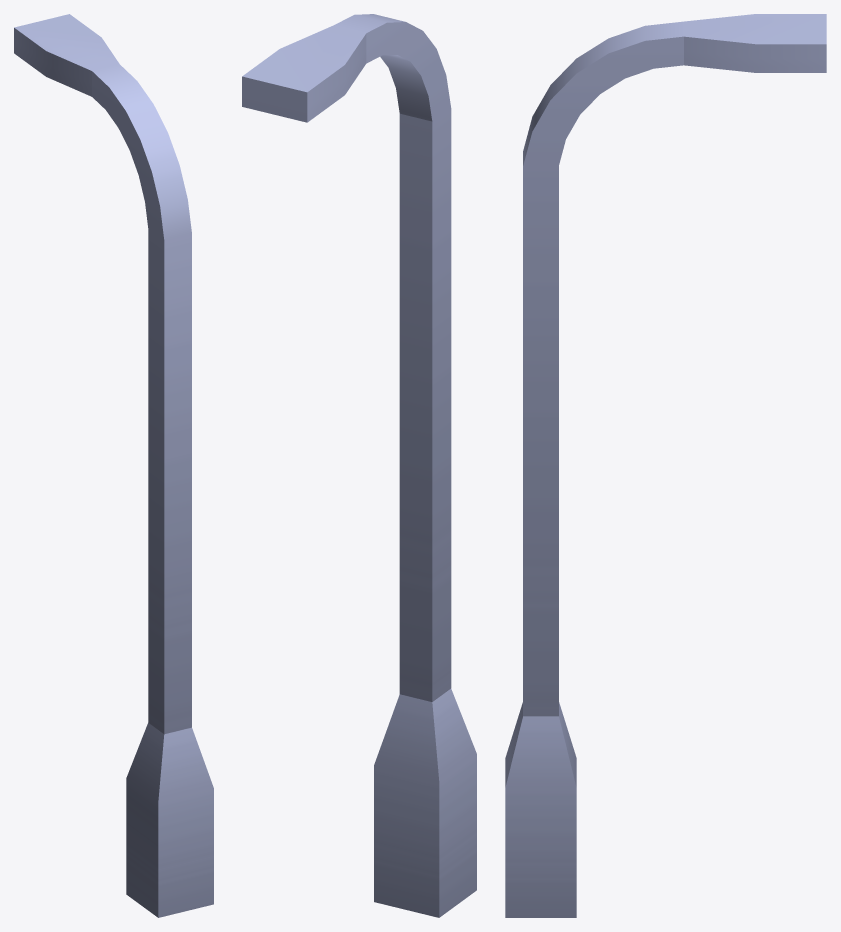
The model's file is light-curved.fbx.
3 views of the same model, side by side, from view 1: azimuth 30°, elevation 25°; view 2: azimuth 150°, elevation 25°; view 3: azimuth 270°, elevation 25° (orthographic). The views are drawn at different scales.
Visible parts, largest first — view 1: light-curved; view 2: light-curved; view 3: light-curved.
Boxes of the visible parts, <box> form: light-curved: <box>14,14,213,917</box>; light-curved: <box>242,14,476,917</box>; light-curved: <box>505,14,826,917</box>.
Size of the model in its own units: 5 by 67.5 by 22.5.
